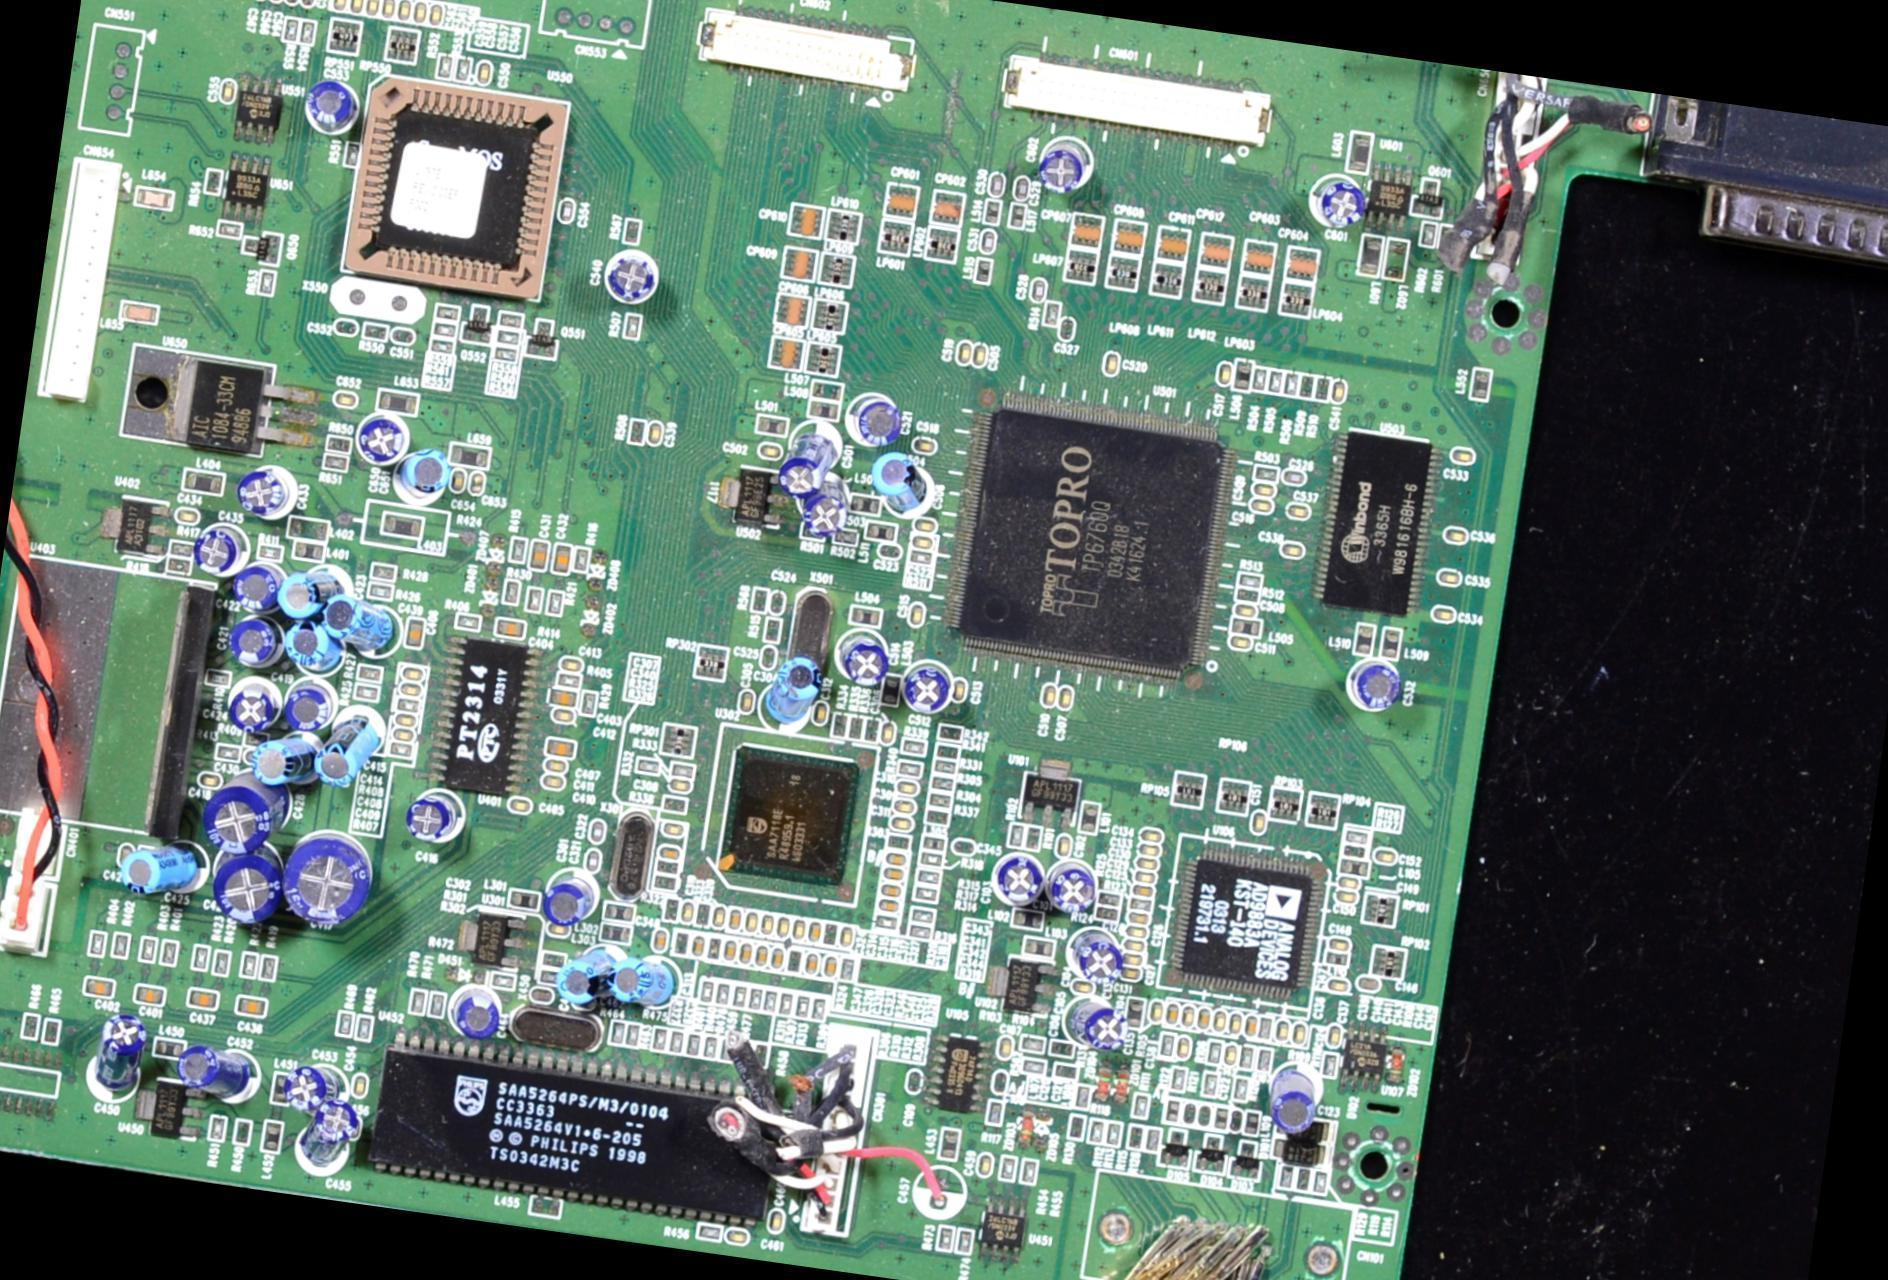Capacitor: (989, 45, 1286, 152), (277, 820, 383, 936), (195, 852, 304, 937), (73, 1003, 154, 1114), (268, 556, 377, 631), (185, 781, 292, 854), (101, 836, 209, 907), (293, 1098, 375, 1182), (313, 714, 396, 797), (1300, 166, 1375, 244), (249, 730, 331, 801), (589, 247, 680, 308), (445, 980, 517, 1059), (341, 408, 418, 479), (893, 649, 965, 721), (1024, 135, 1106, 199), (759, 656, 835, 723), (1334, 658, 1419, 719), (527, 871, 604, 937), (826, 630, 900, 697), (229, 467, 311, 527), (394, 784, 465, 853), (319, 587, 392, 655), (390, 434, 458, 504), (184, 526, 260, 588), (276, 615, 346, 675), (219, 675, 284, 735), (278, 680, 348, 735), (284, 1057, 348, 1116), (230, 553, 291, 612), (220, 685, 283, 743), (224, 620, 286, 672), (228, 990, 280, 1030), (535, 733, 594, 765), (127, 973, 173, 1012), (180, 984, 229, 1020), (324, 377, 369, 416), (81, 971, 127, 1005), (1093, 350, 1133, 388), (1435, 521, 1480, 554), (1439, 439, 1480, 475), (1278, 459, 1318, 493), (400, 609, 431, 652), (500, 787, 538, 821), (764, 1201, 794, 1243), (323, 316, 364, 346), (722, 1217, 758, 1252), (967, 1148, 999, 1186), (382, 322, 418, 355), (548, 537, 576, 581), (170, 497, 207, 529), (1286, 1021, 1320, 1055), (524, 537, 551, 578), (555, 196, 586, 233), (1436, 563, 1475, 591), (212, 76, 241, 112), (1368, 842, 1405, 870), (983, 164, 1009, 203), (900, 597, 930, 631), (1427, 602, 1463, 630), (1055, 308, 1081, 347), (973, 226, 1004, 257), (947, 335, 976, 369), (579, 845, 610, 876), (1208, 360, 1238, 392), (1352, 974, 1391, 998), (394, 661, 433, 686), (1026, 272, 1053, 305), (871, 541, 905, 569), (1066, 973, 1101, 998), (1282, 499, 1318, 524), (870, 894, 907, 918), (384, 722, 422, 745), (538, 773, 575, 797), (1051, 829, 1079, 860), (1207, 1004, 1232, 1038), (556, 653, 591, 677), (545, 687, 581, 712), (1276, 535, 1306, 563), (1230, 601, 1265, 624), (1224, 633, 1260, 656), (1327, 885, 1362, 909), (1034, 681, 1061, 711), (654, 842, 687, 866), (903, 1064, 927, 1097), (348, 1069, 373, 1102), (906, 437, 943, 458), (992, 1035, 1020, 1063), (731, 687, 760, 715), (1273, 1018, 1298, 1048), (966, 341, 991, 372), (1244, 499, 1279, 520), (885, 797, 921, 819), (688, 930, 713, 961), (1009, 173, 1034, 204), (809, 696, 833, 727), (989, 1067, 1015, 1096), (447, 467, 473, 496), (466, 467, 490, 497), (950, 677, 974, 707), (647, 417, 670, 449), (752, 437, 784, 460), (880, 847, 911, 870), (660, 818, 691, 841), (910, 513, 943, 534), (1135, 822, 1168, 843), (584, 818, 610, 846), (737, 941, 763, 968), (749, 943, 773, 971), (647, 930, 671, 958), (801, 951, 825, 980), (1323, 931, 1353, 955), (742, 909, 765, 938), (477, 59, 500, 88), (549, 706, 579, 729), (1329, 376, 1349, 409), (1249, 481, 1282, 502), (878, 716, 898, 748), (775, 914, 798, 943), (1197, 1004, 1220, 1033), (1323, 1023, 1345, 1051), (1333, 870, 1362, 891), (879, 864, 910, 884), (756, 912, 779, 939), (1163, 1000, 1185, 1027), (1058, 684, 1081, 712), (195, 770, 224, 792), (390, 711, 425, 729), (538, 757, 571, 776), (719, 940, 742, 964), (396, 0, 418, 26), (789, 916, 810, 943), (710, 905, 731, 933), (1180, 1004, 1201, 1032), (363, 0, 390, 21), (886, 815, 914, 835), (905, 531, 939, 549), (326, 0, 355, 19), (769, 945, 790, 972), (426, 2, 447, 27), (1145, 999, 1166, 1025), (1225, 1107, 1245, 1135), (768, 591, 788, 619), (394, 682, 428, 697), (1131, 869, 1159, 887), (1131, 880, 1160, 899), (378, 0, 402, 23), (1133, 841, 1166, 857), (879, 884, 908, 902), (1120, 936, 1150, 953), (838, 923, 858, 948), (727, 907, 747, 933), (1242, 1014, 1263, 1040), (893, 779, 919, 798), (1228, 1011, 1247, 1038), (1221, 1042, 1240, 1068), (1124, 923, 1153, 940), (411, 0, 429, 28), (1133, 854, 1161, 871), (822, 956, 842, 980), (1120, 950, 1145, 968), (346, 0, 372, 19), (1124, 908, 1151, 925), (1181, 1101, 1200, 1125), (1196, 1104, 1214, 1128), (1118, 964, 1144, 982), (808, 921, 827, 944), (1326, 977, 1350, 995), (1175, 1036, 1191, 1061), (667, 778, 694, 793), (245, 0, 277, 9), (298, 0, 320, 11), (283, 0, 302, 8), (266, 0, 284, 7)
Connector: (25, 151, 134, 413), (682, 0, 931, 113), (62, 21, 165, 148), (527, 0, 675, 65)
IC: (935, 389, 1248, 696), (335, 69, 573, 302), (700, 725, 867, 901), (1307, 426, 1447, 629), (117, 339, 281, 463), (426, 631, 543, 800), (137, 1058, 212, 1149), (714, 464, 796, 544), (97, 493, 181, 570), (928, 1030, 987, 1115), (1360, 160, 1423, 234), (456, 905, 525, 968), (0, 1055, 70, 1115), (994, 954, 1058, 1018), (229, 82, 286, 142), (219, 165, 277, 222), (1335, 1032, 1386, 1087)
Resistor: (329, 135, 372, 176), (684, 1217, 730, 1250), (617, 307, 656, 346), (1409, 217, 1442, 258), (245, 266, 279, 303), (200, 661, 238, 693), (204, 216, 248, 243), (571, 539, 600, 580), (930, 1220, 961, 1257), (646, 867, 685, 894), (82, 926, 113, 960), (332, 1006, 361, 1042), (505, 535, 535, 570), (105, 927, 131, 968), (321, 432, 363, 457), (313, 452, 354, 477), (402, 981, 430, 1018), (207, 944, 237, 979), (951, 1227, 980, 1263), (256, 949, 283, 985), (484, 970, 526, 994), (15, 1011, 44, 1046), (993, 1152, 1021, 1185), (620, 213, 648, 247), (524, 585, 552, 620), (983, 1097, 1009, 1133), (1016, 1155, 1043, 1190), (1099, 1117, 1126, 1154), (935, 719, 972, 744), (829, 523, 861, 552), (134, 933, 162, 967), (229, 1114, 255, 1149), (1339, 824, 1376, 850), (1193, 1070, 1223, 1100), (359, 318, 388, 349), (186, 943, 214, 974), (39, 1015, 66, 1047), (498, 576, 526, 608), (237, 950, 263, 984), (744, 583, 770, 617), (454, 609, 489, 634), (353, 1010, 377, 1046), (1143, 1123, 1167, 1159), (622, 414, 647, 450), (667, 757, 703, 782), (211, 740, 247, 764), (553, 670, 593, 691), (1002, 819, 1030, 850), (494, 308, 531, 331), (630, 751, 667, 775), (426, 988, 452, 1021), (206, 1115, 232, 1147), (651, 858, 687, 881), (201, 163, 224, 199), (429, 302, 464, 324), (368, 559, 404, 582), (1130, 1091, 1156, 1123), (1064, 1114, 1090, 1146), (385, 738, 419, 763), (251, 542, 289, 563), (1311, 372, 1334, 405), (897, 732, 931, 755), (761, 616, 787, 645), (545, 585, 567, 622), (390, 695, 425, 716), (926, 775, 961, 796), (1256, 1011, 1280, 1043), (1291, 1166, 1315, 1197), (491, 342, 523, 366), (163, 555, 194, 579), (658, 789, 690, 813), (792, 993, 816, 1025), (1018, 1032, 1051, 1054), (1279, 369, 1303, 401), (365, 583, 399, 605), (913, 865, 947, 887), (1084, 1115, 1106, 1149), (296, 17, 317, 52), (1156, 1030, 1179, 1060), (353, 682, 383, 706), (912, 883, 944, 905), (577, 688, 600, 720), (428, 318, 461, 340), (163, 537, 196, 558), (932, 742, 965, 763), (660, 896, 685, 923), (1167, 1065, 1192, 1093), (1228, 1075, 1253, 1103), (158, 939, 182, 969), (280, 16, 302, 47), (1273, 1166, 1297, 1193), (426, 334, 459, 355), (1320, 1050, 1343, 1079), (844, 712, 866, 741), (1313, 1166, 1331, 1200), (922, 808, 954, 828), (761, 988, 785, 1015), (1248, 367, 1270, 396), (623, 1022, 641, 1054), (1096, 890, 1125, 910), (1203, 1039, 1223, 1069), (1019, 1061, 1050, 1081), (1125, 1121, 1146, 1151), (898, 758, 929, 779), (930, 758, 964, 776), (821, 921, 843, 948), (1024, 827, 1045, 854), (1295, 373, 1315, 401), (828, 710, 848, 738), (904, 549, 937, 565), (355, 664, 388, 681), (908, 907, 939, 926), (925, 791, 956, 810), (694, 904, 715, 930), (811, 997, 833, 1023), (651, 1028, 673, 1054), (785, 950, 805, 977), (700, 1033, 720, 1060), (456, 54, 475, 82), (860, 714, 880, 742), (1235, 568, 1267, 586), (1232, 585, 1267, 602), (1092, 905, 1121, 924), (1266, 366, 1284, 395), (749, 985, 769, 1011), (779, 990, 798, 1016), (1339, 842, 1369, 858), (919, 851, 948, 869), (906, 922, 933, 940), (699, 979, 720, 1001), (715, 981, 735, 1006), (666, 1031, 685, 1056), (733, 983, 749, 1011), (494, 330, 523, 346), (682, 1033, 700, 1058), (872, 914, 900, 930), (1255, 1048, 1274, 1071), (609, 1021, 625, 1046), (434, 55, 452, 78), (1126, 896, 1156, 909), (1239, 1045, 1255, 1070)
Transistor: (517, 310, 569, 376), (230, 226, 287, 271), (1411, 174, 1453, 222), (459, 300, 494, 354)
